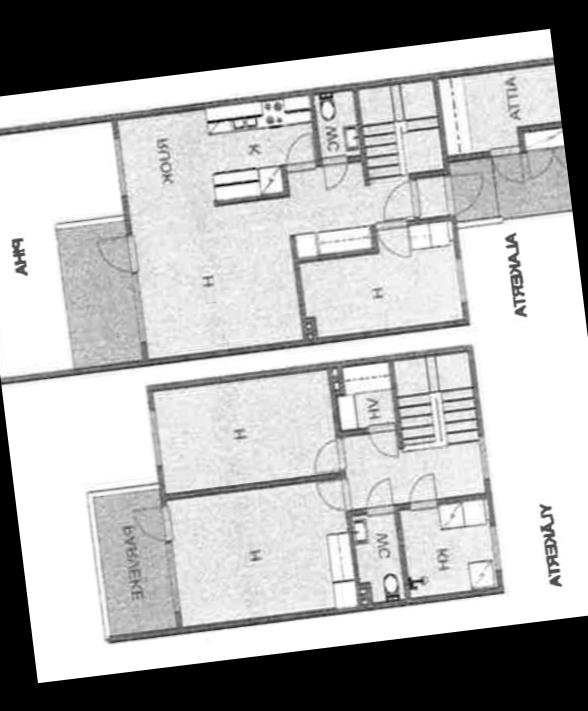door: (440, 167, 488, 214), (375, 176, 421, 222), (127, 502, 173, 546), (89, 230, 136, 273), (279, 128, 319, 178), (304, 436, 348, 480), (311, 476, 354, 516), (374, 218, 413, 262), (402, 469, 440, 514), (360, 476, 397, 521), (364, 420, 400, 465), (318, 150, 354, 192), (521, 139, 555, 182), (490, 144, 520, 185), (548, 140, 568, 176)
window: (108, 131, 132, 207), (160, 540, 184, 616), (127, 268, 150, 347), (144, 401, 166, 472), (450, 250, 470, 307), (472, 430, 493, 483), (487, 519, 504, 572)
